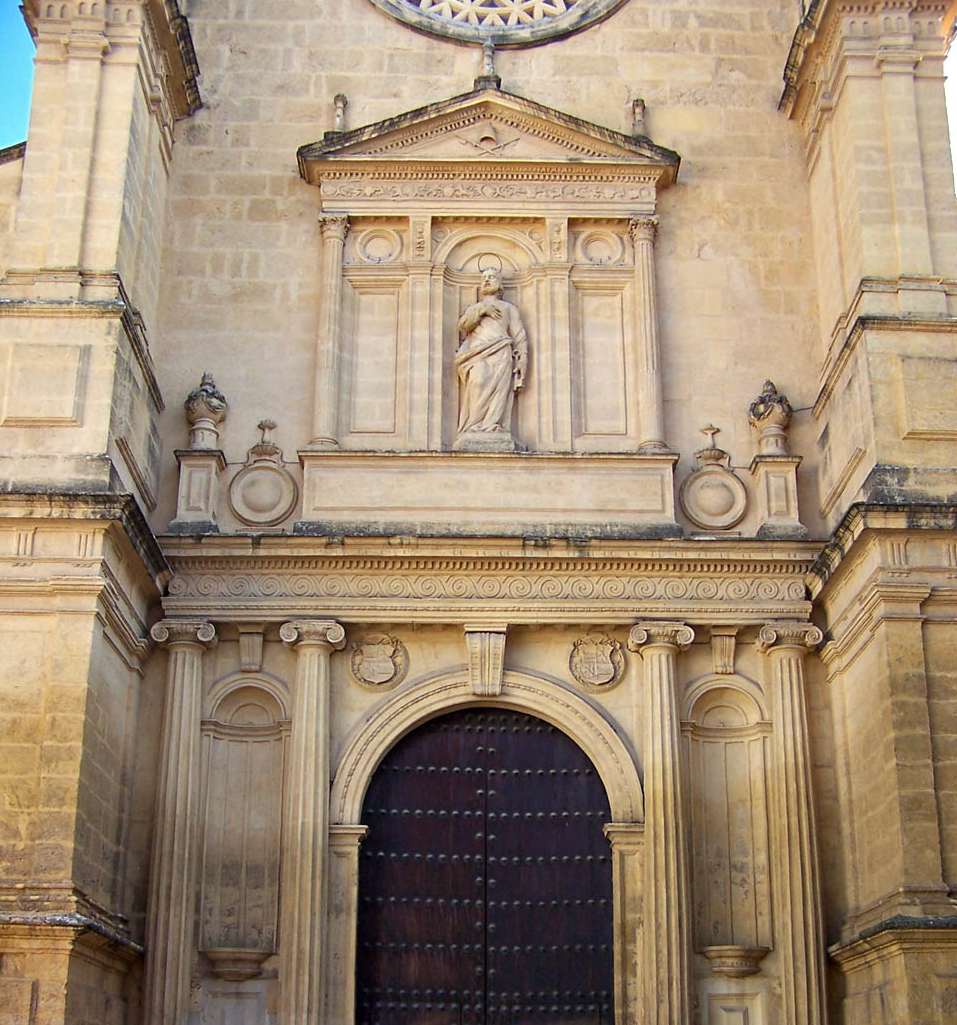arco-medio-punto: (326, 664, 650, 854)
fronton: (290, 88, 689, 184)
serliana: (323, 217, 637, 451)
